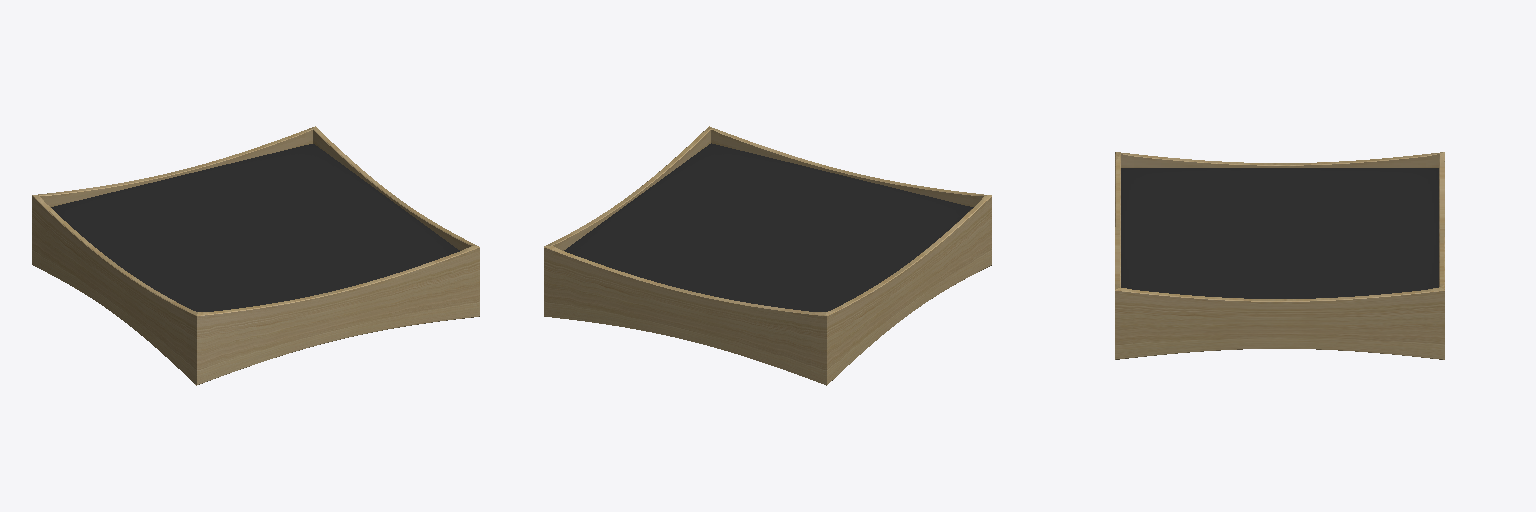
3 views of the same model, side by side, from view 1: azimuth 30°, elevation 25°; view 2: azimuth 150°, elevation 25°; view 3: azimuth 270°, elevation 25° (orthographic).
Parts seen in each view (by area): view 1: solid_001_wire; view 2: solid_001_wire; view 3: solid_001_wire.
Part boxes in pixels (bbox=[...]): solid_001_wire: bbox=[32, 126, 479, 385]; solid_001_wire: bbox=[544, 126, 991, 385]; solid_001_wire: bbox=[1115, 152, 1444, 359].
Size of the model in its own units: 0.4982 by 0.1191 by 0.502.
1 materials, 1 textured.